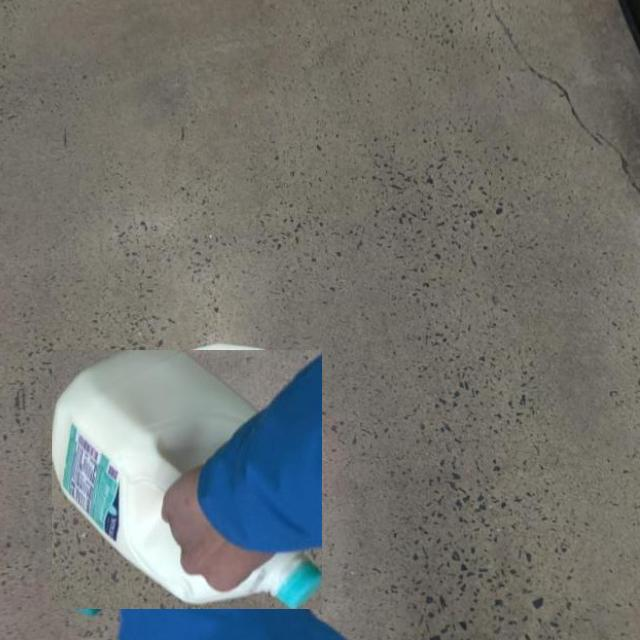Milk: (52, 350, 322, 609)
